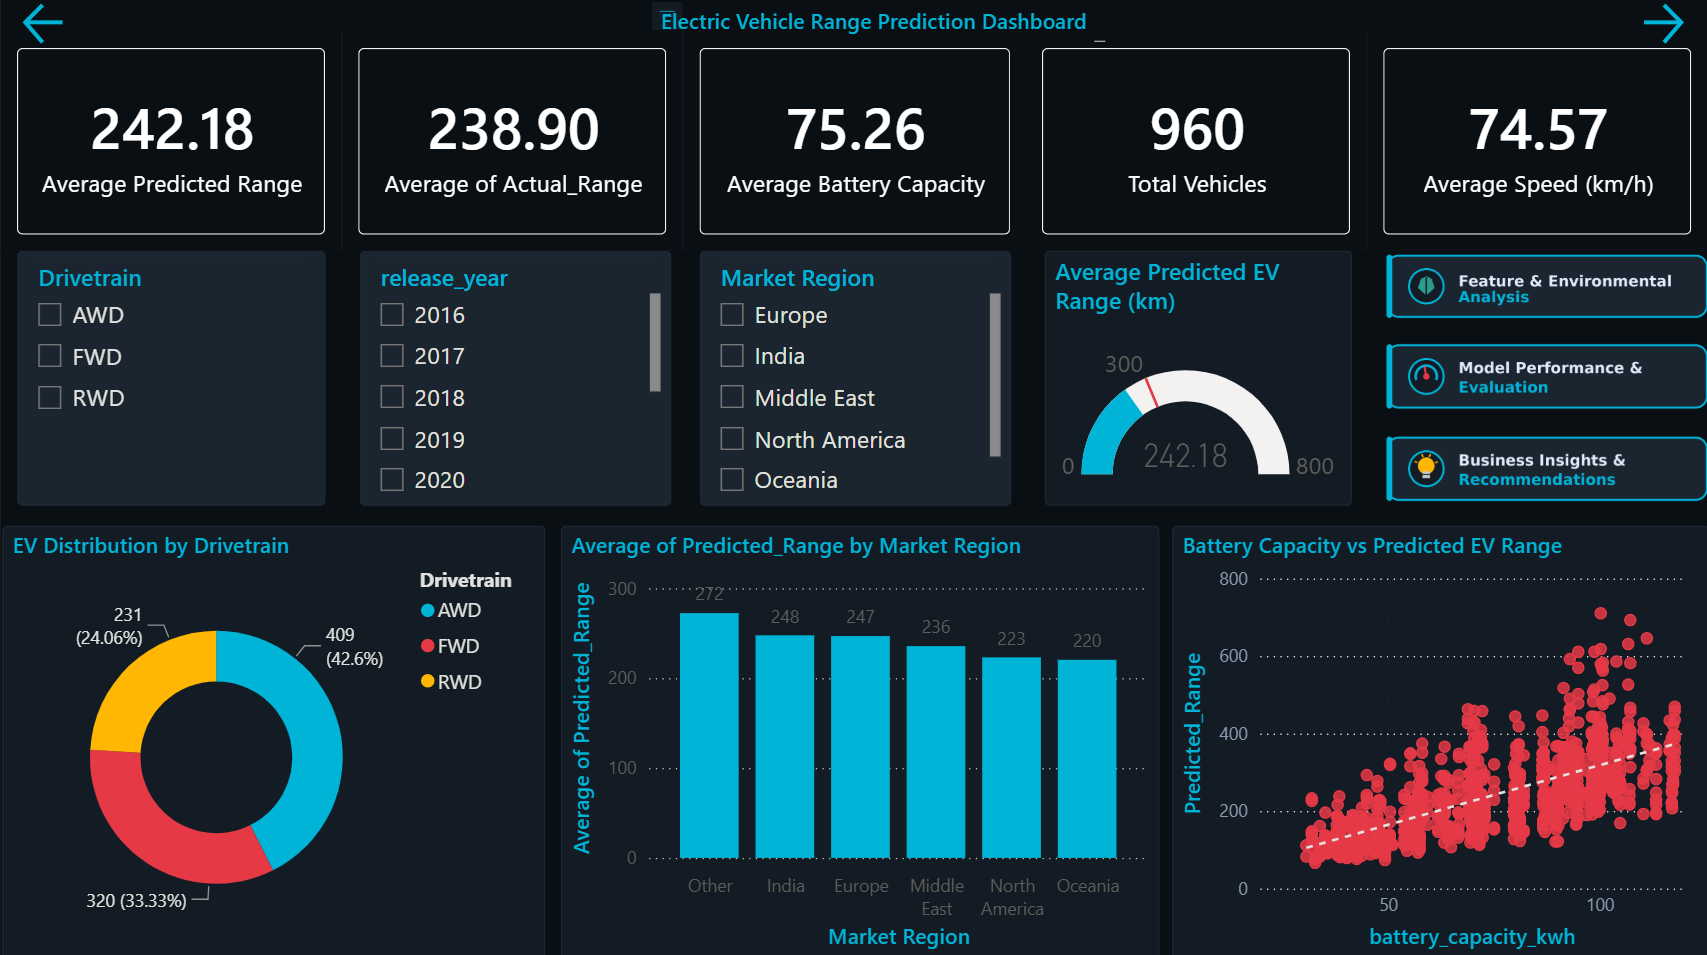

This screenshot's page, from the dashboard's own definition file:
{"tool":"powerbi","page":{"name":"Dashboard","canvas":[1280,720],"ordinal":1},"visuals":[{"type":"cardVisual","fields":{"Data":["Avg(EV_Range_Predictions.Actual_Range)"]},"box":[255.7,26.2,255.7,164.3],"z":0,"group":"g1"},{"type":"donutChart","title":"EV Distribution by Drivetrain","fields":{"Category":["EV_Range_Predictions.Drivetrain"],"Y":["CountNonNull(EV_Range_Predictions.Actual_Range)"]},"box":[1.3,396.6,407.1,325.7],"z":0},{"type":"cardVisual","fields":{"Data":["Avg(EV_Range_Predictions.battery_capacity_kwh)"]},"box":[511.4,26.2,257.1,164.3],"z":1000,"group":"g1"},{"type":"clusteredColumnChart","fields":{"Category":["EV_Range_Predictions.Market Region"],"Y":["Avg(EV_Range_Predictions.Predicted_Range)"]},"box":[419.8,396.6,448.6,325.7],"z":1000},{"type":"cardVisual","fields":{"Data":["CountNonNull(EV_Range_Predictions.efficiency_score_wh_per_km)"]},"box":[768.6,26.2,255.7,164.3],"z":2000,"group":"g1"},{"type":"scatterChart","title":"Battery Capacity vs Predicted EV Range","fields":{"X":["EV_Range_Predictions.battery_capacity_kwh"],"Y":["EV_Range_Predictions.Predicted_Range"]},"box":[878.4,396.6,402.9,325.7],"z":2000},{"type":"cardVisual","fields":{"Data":["Avg(EV_Range_Predictions.Predicted_Range)"]},"box":[0,26.2,255.7,164.3],"z":3000,"group":"g1"},{"type":"slicer","fields":{"Values":["EV_Range_Predictions.Market Region"]},"box":[523.8,190,233.8,191.2],"z":3000},{"type":"cardVisual","fields":{"Data":["Avg(EV_Range_Predictions.speed_kmh)"]},"box":[1024.3,26.2,255.7,164.3],"z":4000,"group":"g1"},{"type":"slicer","fields":{"Values":["EV_Range_Predictions.Drivetrain"]},"box":[12.5,190,231.2,191.2],"z":4000},{"type":"slicer","fields":{"Values":["EV_Range_Predictions.release_year"]},"box":[268.8,190,233.8,191.2],"z":5000},{"type":"gauge","title":"Average Predicted EV Range (km)","fields":{"MaxValue":["EV_Range_Predictions.maximum"],"MinValue":["EV_Range_Predictions.minimum"],"TargetValue":["EV_Range_Predictions.target value"],"Y":["EV_Range_Predictions.Avg Predicted Range"]},"box":[782.5,190,230,191.2],"z":6000},{"type":"group","id":"g1","title":"Group 1","box":[0,26.2,1280,163.8],"z":7000},{"type":"textbox","title":"Electric Vehicle Range Prediction Dashboard","box":[481.2,0,352.5,38.8],"z":8000},{"type":"image","box":[1038.3,191.7,241.7,51.7],"z":9000},{"type":"image","box":[1038.3,256.7,241.7,55],"z":10000},{"type":"image","box":[1038.3,325,241.7,56.7],"z":11000},{"type":"actionButton","box":[12.2,0,44.4,40],"z":12000},{"type":"actionButton","box":[1226.7,0,45.6,40],"z":13000}]}

Visuals, with their boxes in screenshot pixels (x1, y1, x2, y2), scaled from the page's 1280x720 canvas onto the 1707x955 screenshot:
cardVisual - Avg(EV_Range_Predictions.Actual_Range): 341, 35, 682, 253
"EV Distribution by Drivetrain" donutChart: 2, 526, 545, 954
cardVisual - Avg(EV_Range_Predictions.battery_capacity_kwh): 682, 35, 1025, 253
clusteredColumnChart - EV_Range_Predictions.Market Region x Avg(EV_Range_Predictions.Predicted_Range): 560, 526, 1158, 954
cardVisual - CountNonNull(EV_Range_Predictions.efficiency_score_wh_per_km): 1025, 35, 1366, 253
"Battery Capacity vs Predicted EV Range" scatterChart: 1171, 526, 1706, 954
cardVisual - Avg(EV_Range_Predictions.Predicted_Range): 0, 35, 341, 253
slicer - EV_Range_Predictions.Market Region: 699, 252, 1010, 506
cardVisual - Avg(EV_Range_Predictions.speed_kmh): 1366, 35, 1706, 253
slicer - EV_Range_Predictions.Drivetrain: 17, 252, 325, 506
slicer - EV_Range_Predictions.release_year: 358, 252, 670, 506
"Average Predicted EV Range (km)" gauge: 1044, 252, 1350, 506
"Group 1" group: 0, 35, 1706, 252
"Electric Vehicle Range Prediction Dashboard" textbox: 642, 0, 1112, 51
image: 1385, 254, 1706, 323
image: 1385, 340, 1706, 413
image: 1385, 431, 1706, 506
actionButton: 16, 0, 75, 53
actionButton: 1636, 0, 1697, 53
